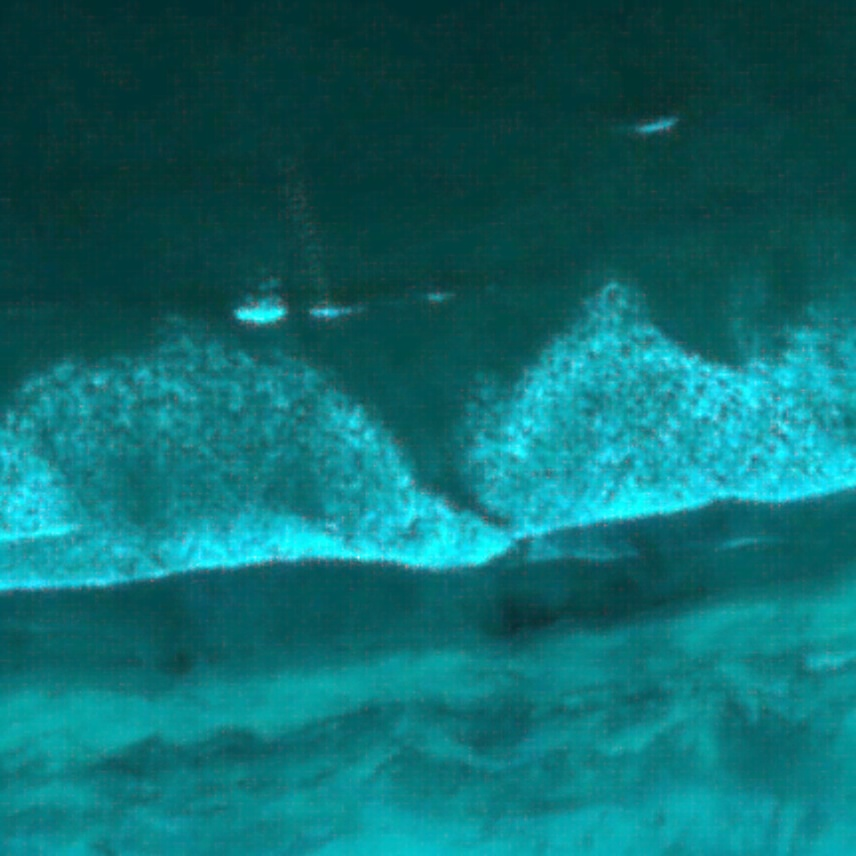rip_current: (299, 300, 542, 536)
